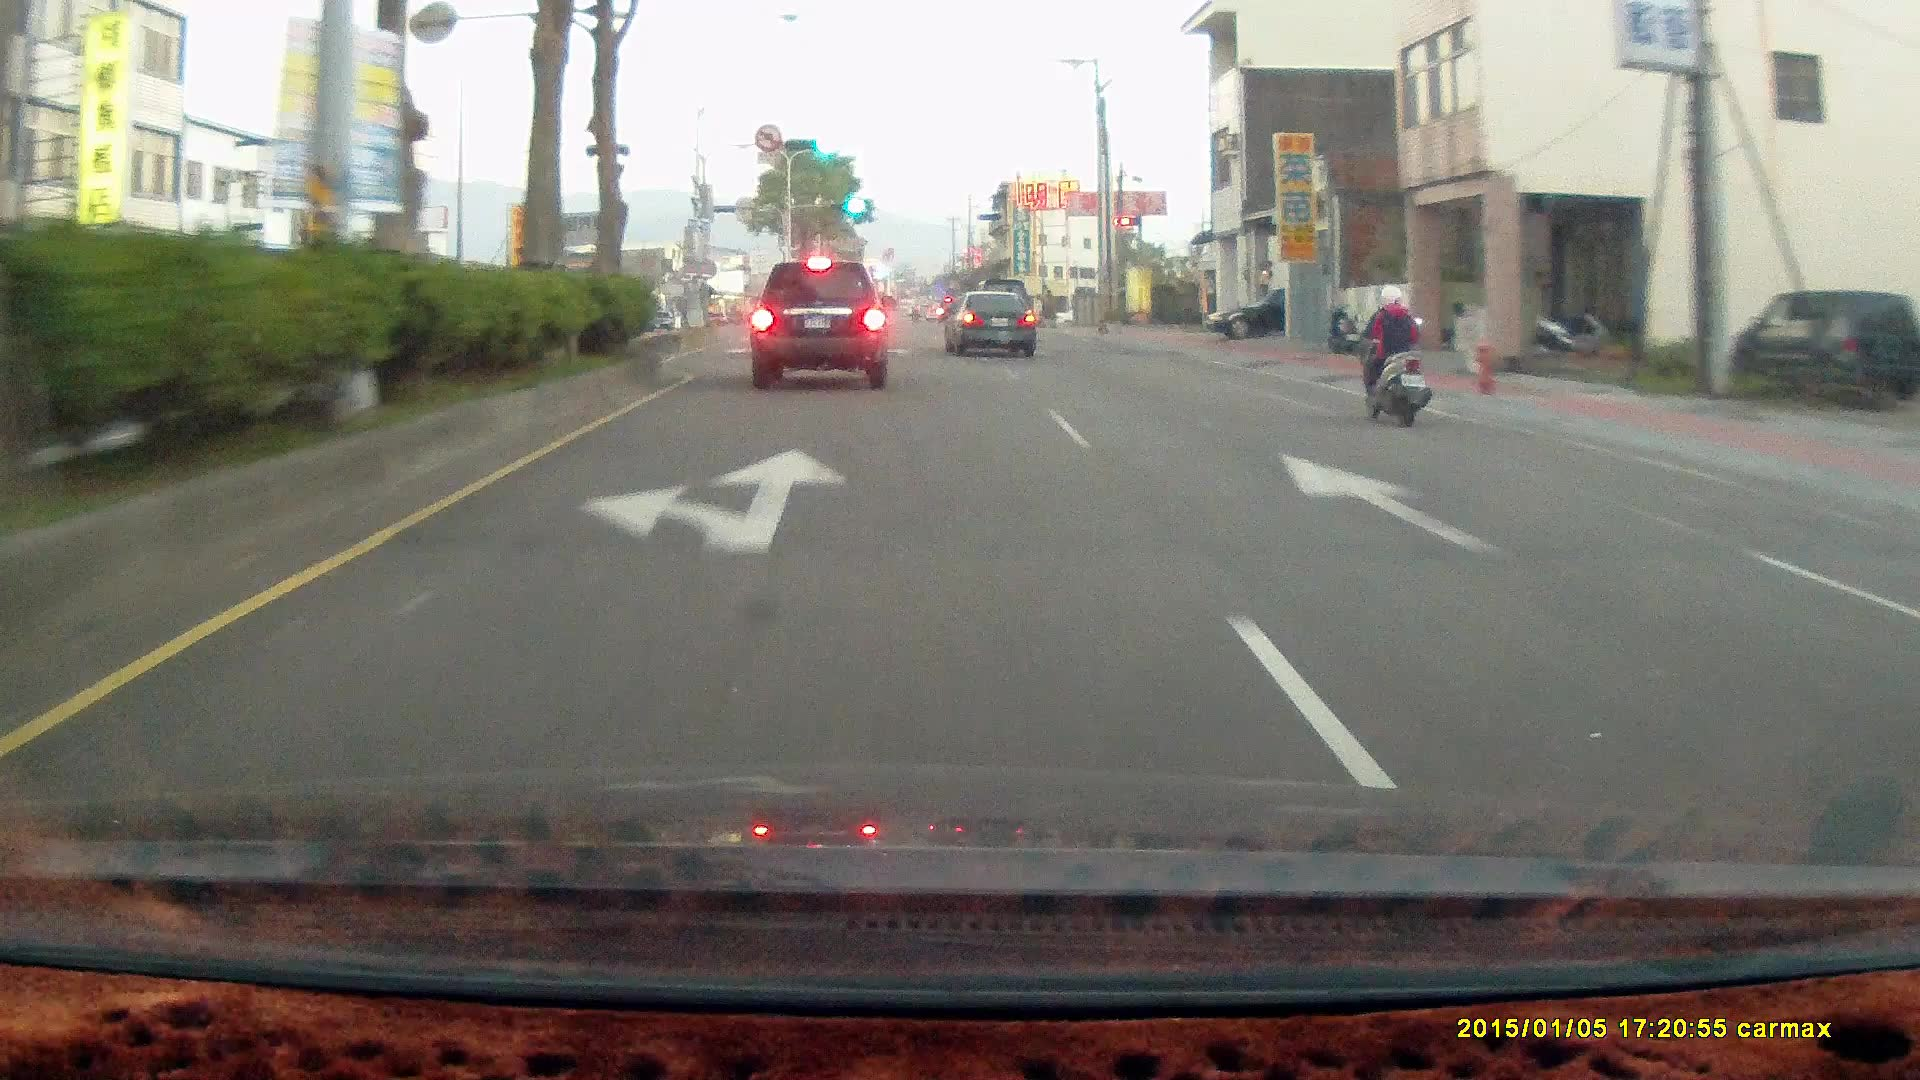rider: (1343, 274, 1445, 437), (1356, 288, 1431, 436)
vehicle: (1731, 289, 1916, 401), (1737, 286, 1912, 400), (748, 260, 893, 393), (750, 262, 896, 390), (1205, 287, 1356, 342), (947, 290, 1041, 358), (943, 289, 1035, 355), (1205, 288, 1290, 343)
